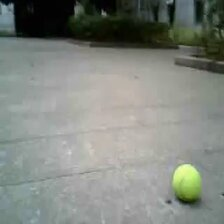tennis: (172, 163, 200, 200)
